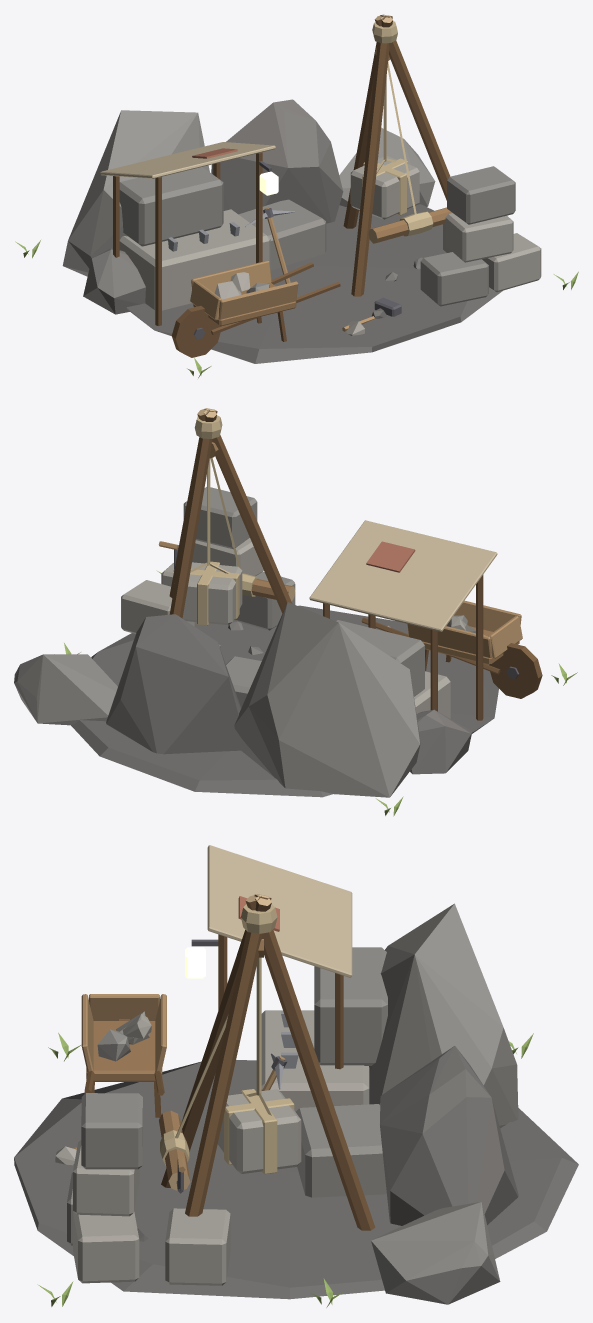
Rendered from quarry_3.glb.
The picture shows the model from 3 angles, top to bottom: view 1: azimuth 30°, elevation 25°; view 2: azimuth 150°, elevation 25°; view 3: azimuth 270°, elevation 25°; orthographic projection. The views are drawn at different scales.
Visible parts, largest first — view 1: Quarry; view 2: Quarry; view 3: Quarry.
Part boxes in pixels (left/top/right/bottom): Quarry: left=15, top=14, right=578, bottom=378; Quarry: left=14, top=408, right=577, bottom=816; Quarry: left=14, top=845, right=578, bottom=1307.
Size of the model in its own units: 5.1 by 3.07 by 4.61.
